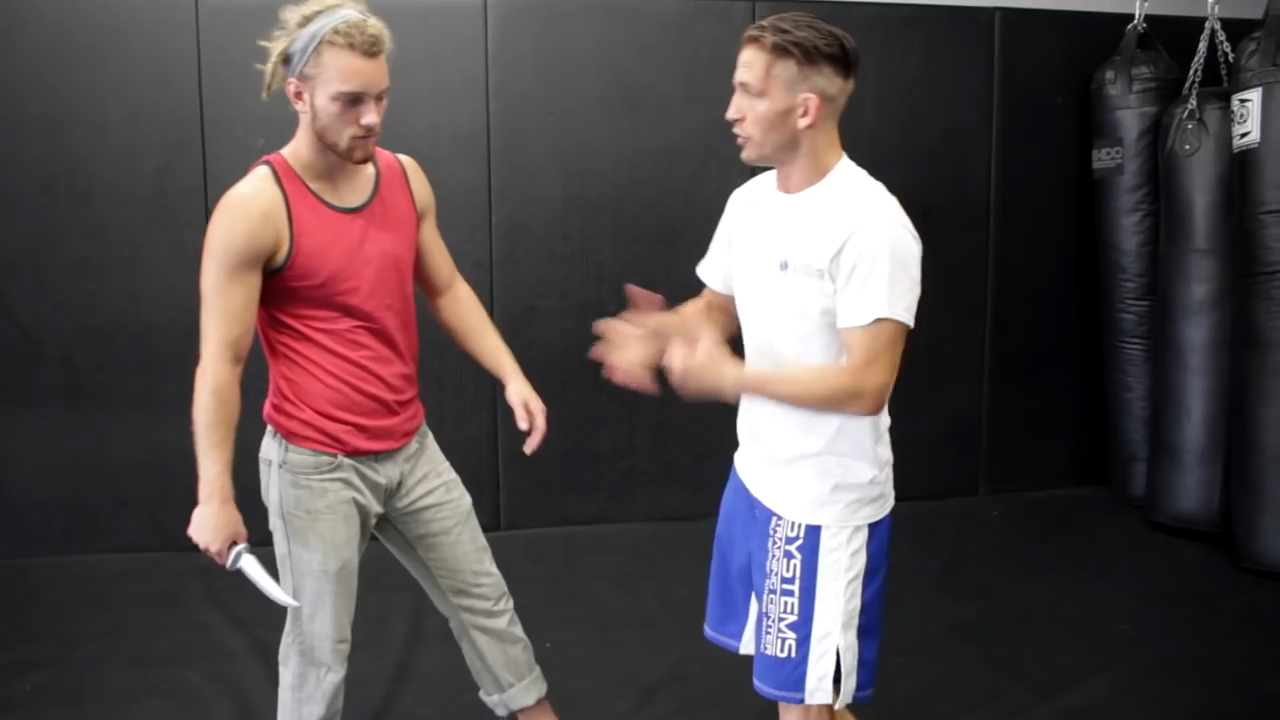knife: (183, 520, 315, 624)
